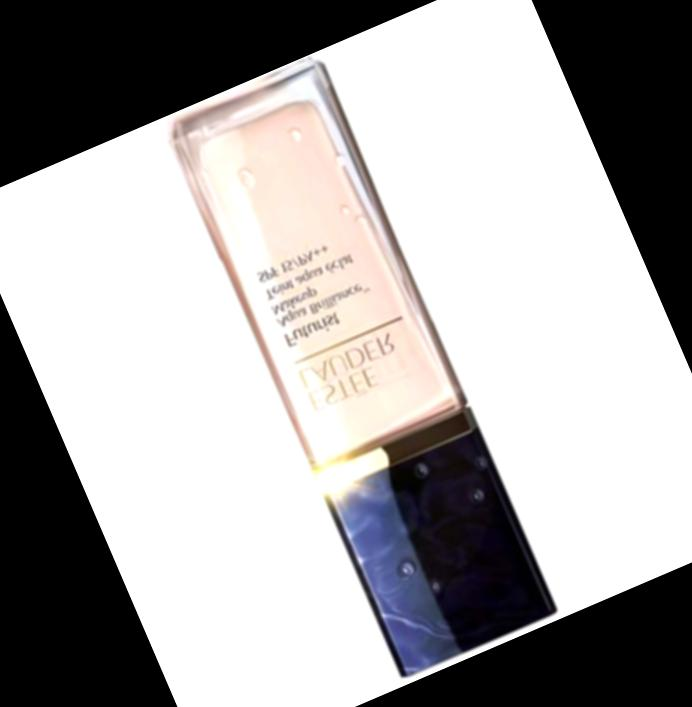cosmetic: (161, 52, 562, 681)
